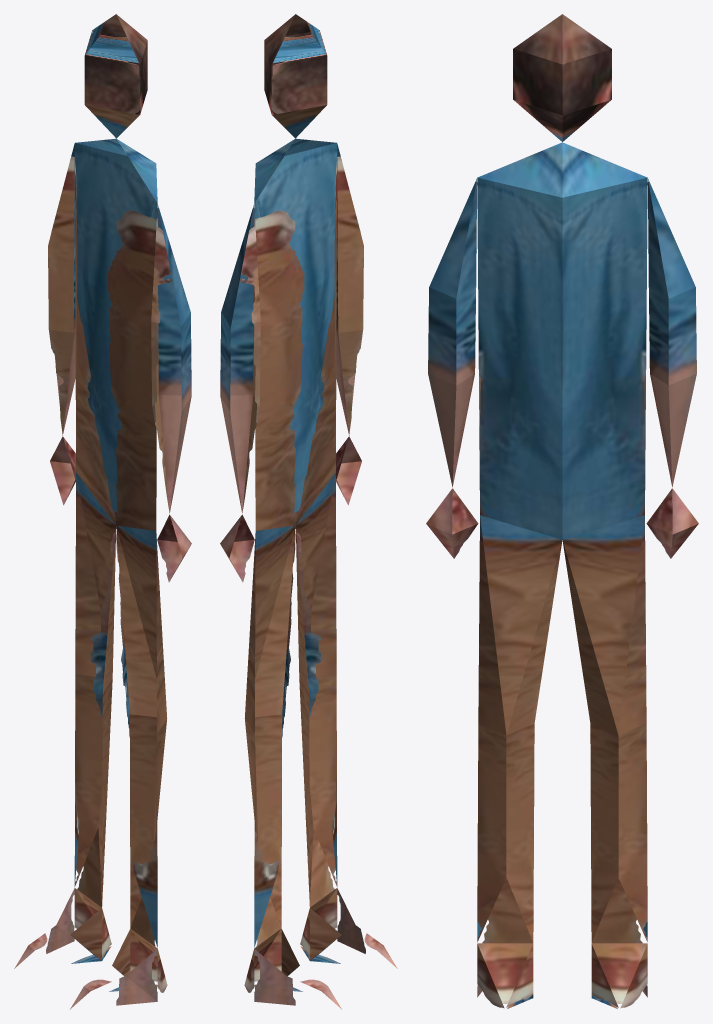
Rendered from man_old.fbx.
3 renders of one model, left to right at view 1: azimuth 30°, elevation 25°; view 2: azimuth 150°, elevation 25°; view 3: azimuth 270°, elevation 25°, orthographic. The views are drawn at different scales.
Parts seen in each view (by area): view 1: Plane; view 2: Plane; view 3: Plane.
Part boxes in pixels (x1,y1,x2,y2): Plane: (14, 14, 191, 1009); Plane: (220, 14, 397, 1009); Plane: (426, 14, 698, 1008).
Size of the model in its own units: 57.86 by 462 by 116.
